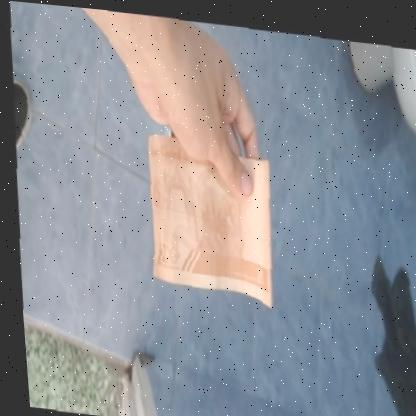twenty-back-vef: (139, 130, 275, 303)
